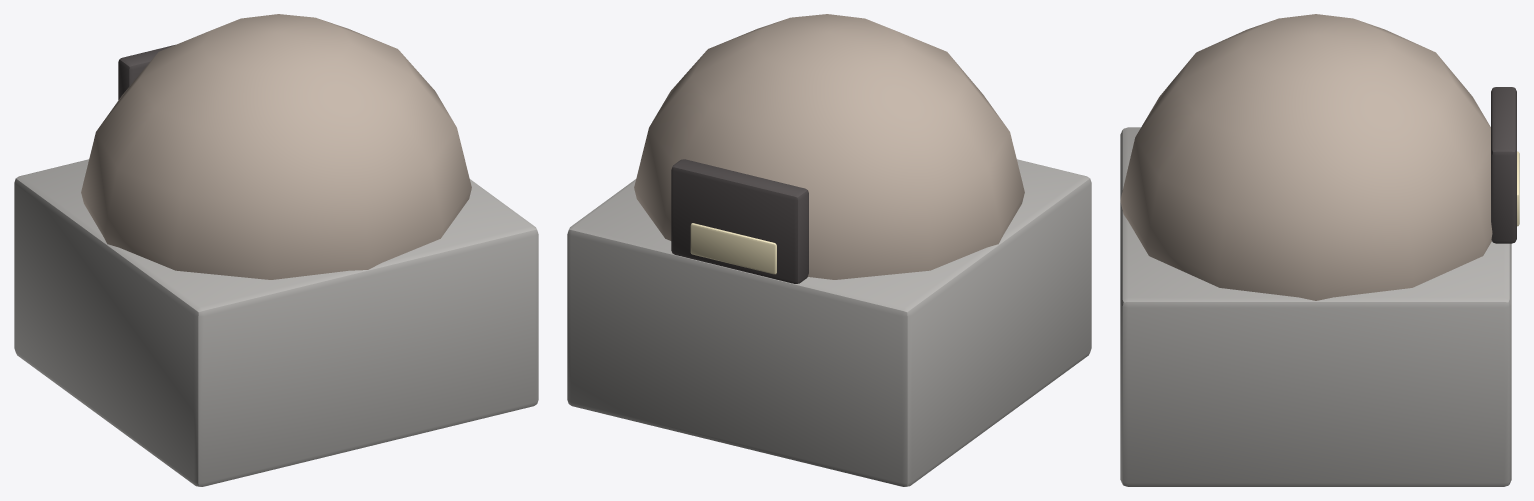
File: oven.gltf
3 renders of one model, left to right at view 1: azimuth 30°, elevation 25°; view 2: azimuth 150°, elevation 25°; view 3: azimuth 270°, elevation 25°, orthographic. The views are drawn at different scales.
Visible parts, largest first — view 1: Body; view 2: Body; view 3: Body.
Boxes of the visible parts, left/top/right/bottom form: Body: left=14, top=14, right=538, bottom=486; Body: left=567, top=14, right=1091, bottom=486; Body: left=1120, top=14, right=1519, bottom=486.
Bounding box in the file's own units: 1.6 × 1.55 × 1.53.
